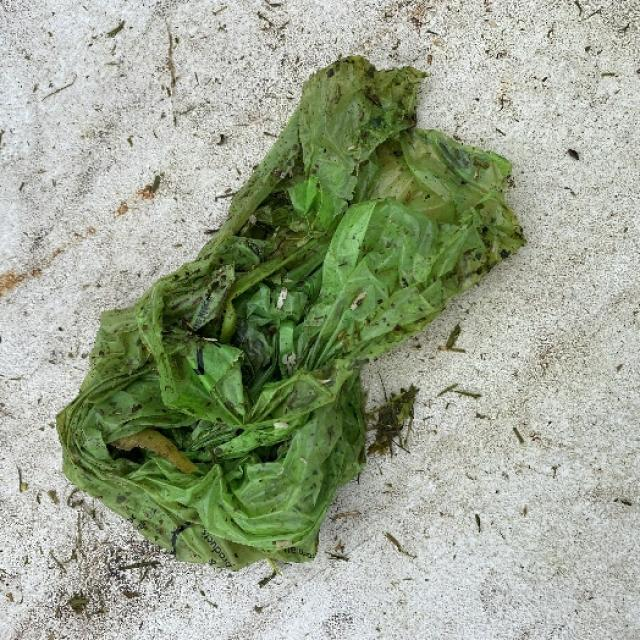organik: (93, 54, 485, 562)
